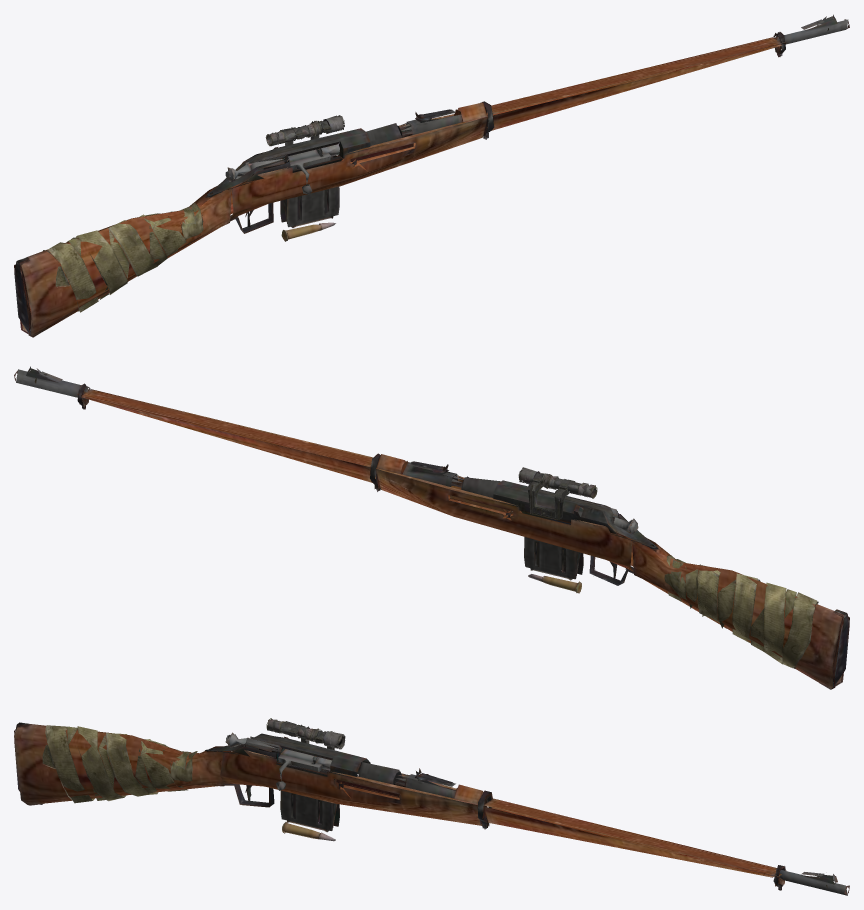
The model's file is bolt_action_rifle_7_62.glb.
3 views of the same model, one above another, from view 1: azimuth 30°, elevation 25°; view 2: azimuth 150°, elevation 25°; view 3: azimuth 330°, elevation 25° (orthographic).
Parts seen in each view (by area): view 1: bolt_action_rifle_7_62_scope; view 2: bolt_action_rifle_7_62_scope; view 3: bolt_action_rifle_7_62_scope.
Boxes of the visible parts, x1=… form: bolt_action_rifle_7_62_scope: x1=14, y1=14, x2=849, y2=337; bolt_action_rifle_7_62_scope: x1=14, y1=366, x2=849, y2=689; bolt_action_rifle_7_62_scope: x1=14, y1=718, x2=849, y2=895.
Size of the model in its own units: 1.23 by 0.206 by 0.0673.
Materials: 3 (3 with a texture image).
